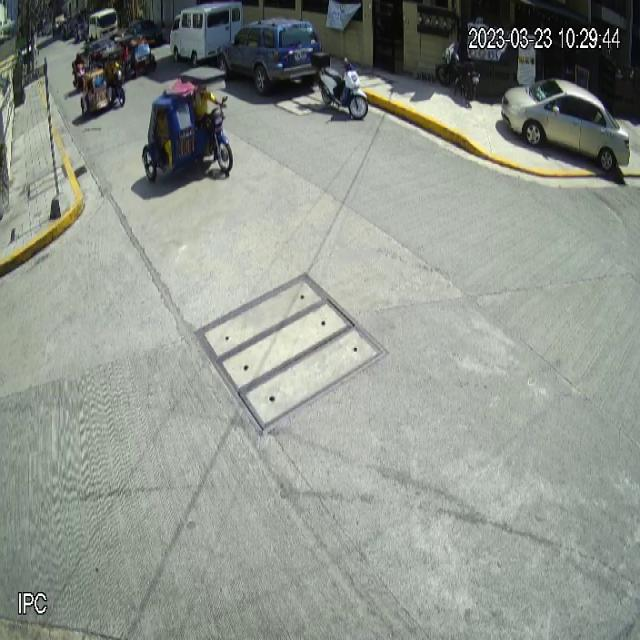Car: (501, 76, 631, 172), (217, 18, 323, 95)
Motorcycle: (311, 50, 368, 120)
Tricycle: (142, 67, 234, 181)
Van: (169, 1, 243, 68)
